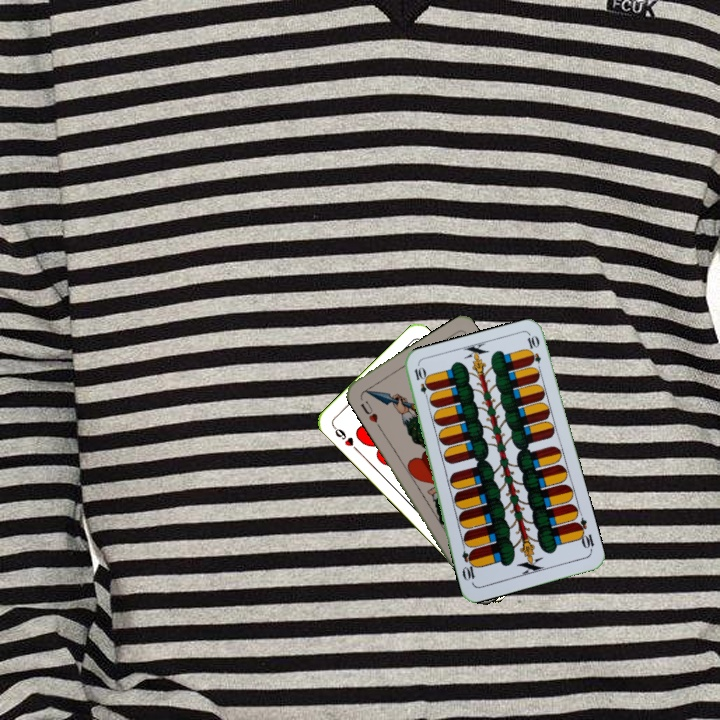E10: (571, 514, 597, 554), (410, 363, 432, 403)
H9: (329, 422, 361, 454)
HU: (356, 396, 383, 430)
